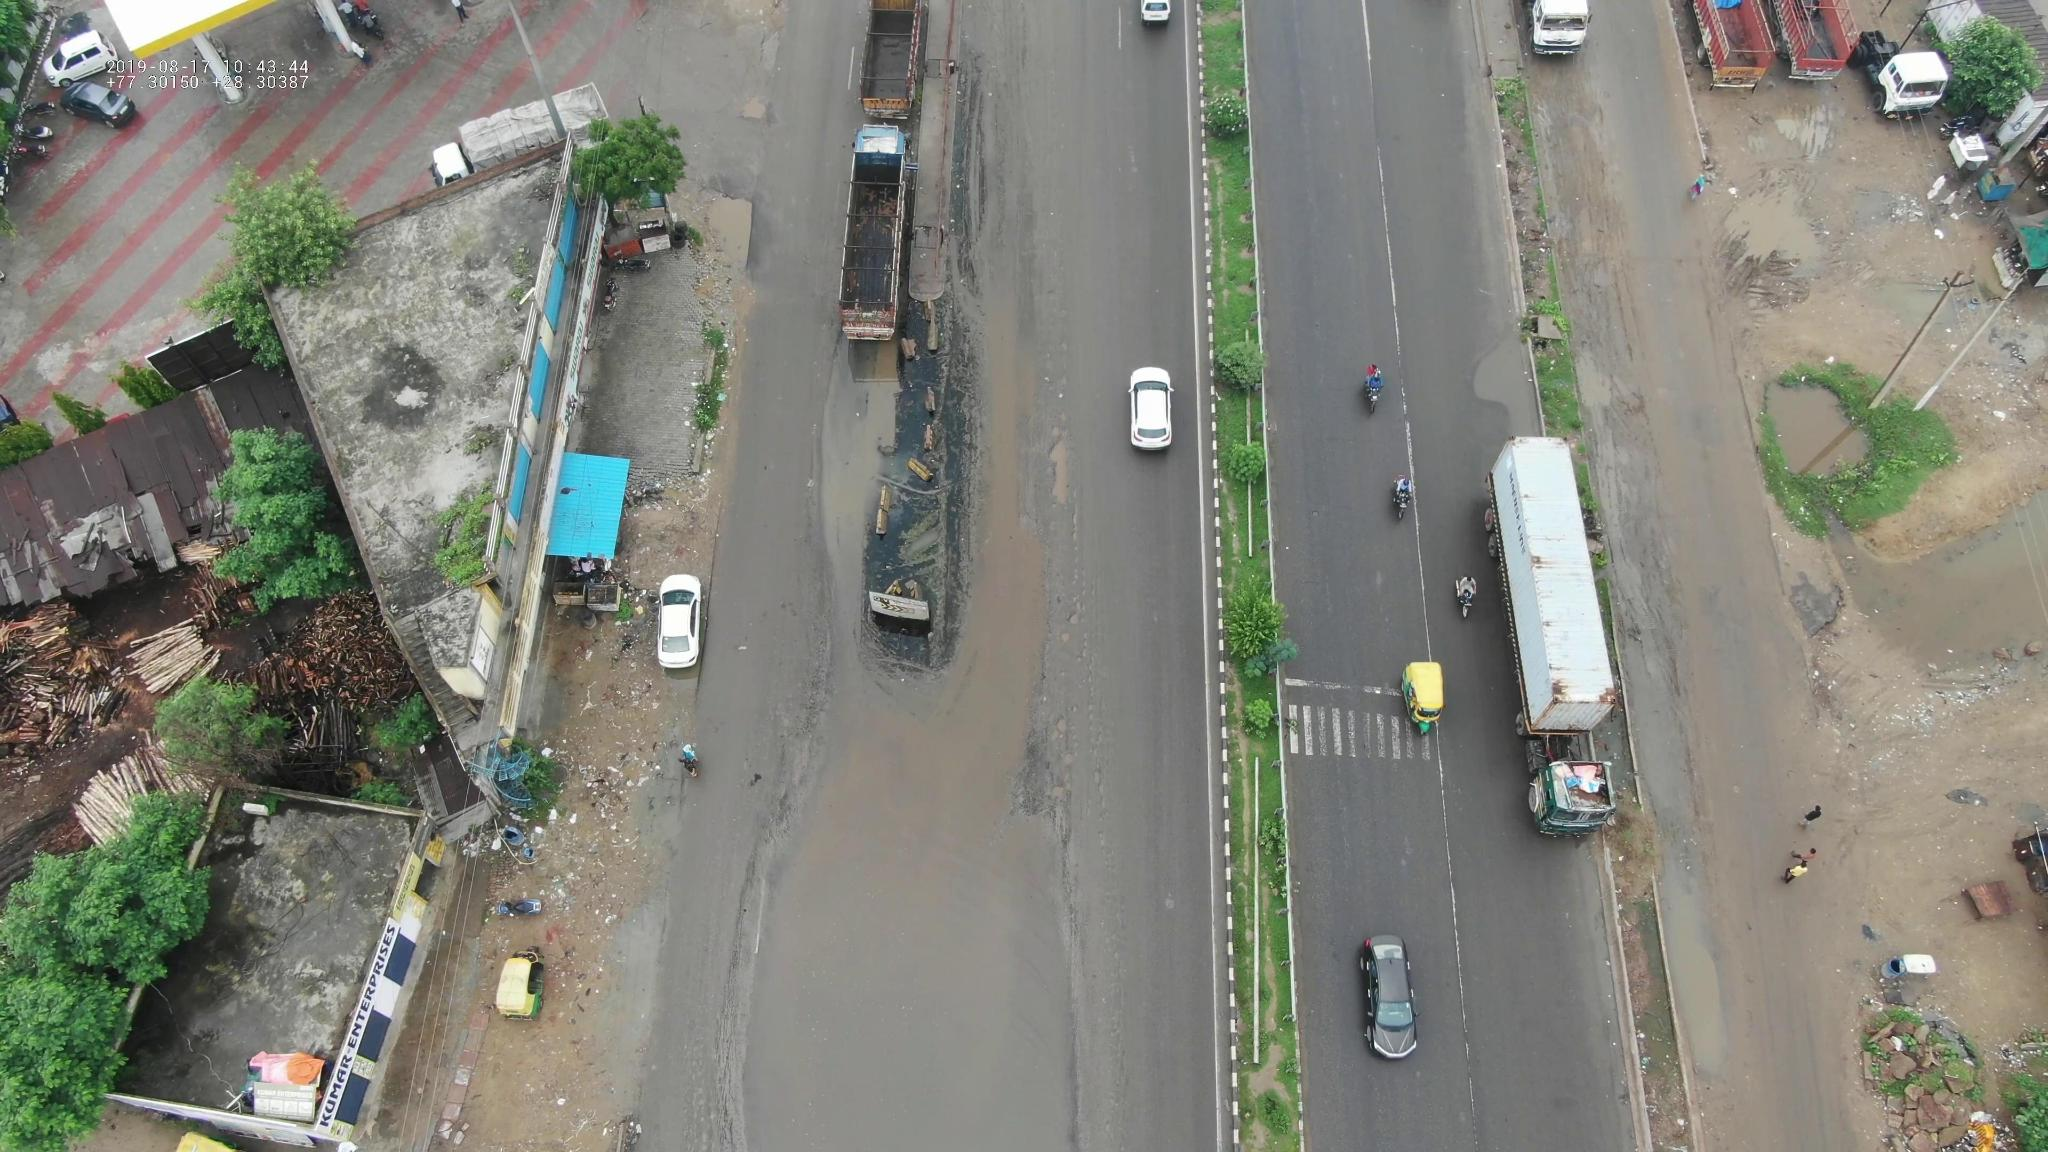Potholes: (1052, 522, 1125, 847), (1034, 291, 1077, 518), (1096, 904, 1129, 1129), (671, 982, 715, 1138), (755, 663, 803, 753), (734, 89, 781, 139), (1113, 131, 1152, 181)
Waterlogging: (736, 563, 1089, 1139), (1445, 316, 1530, 447)
